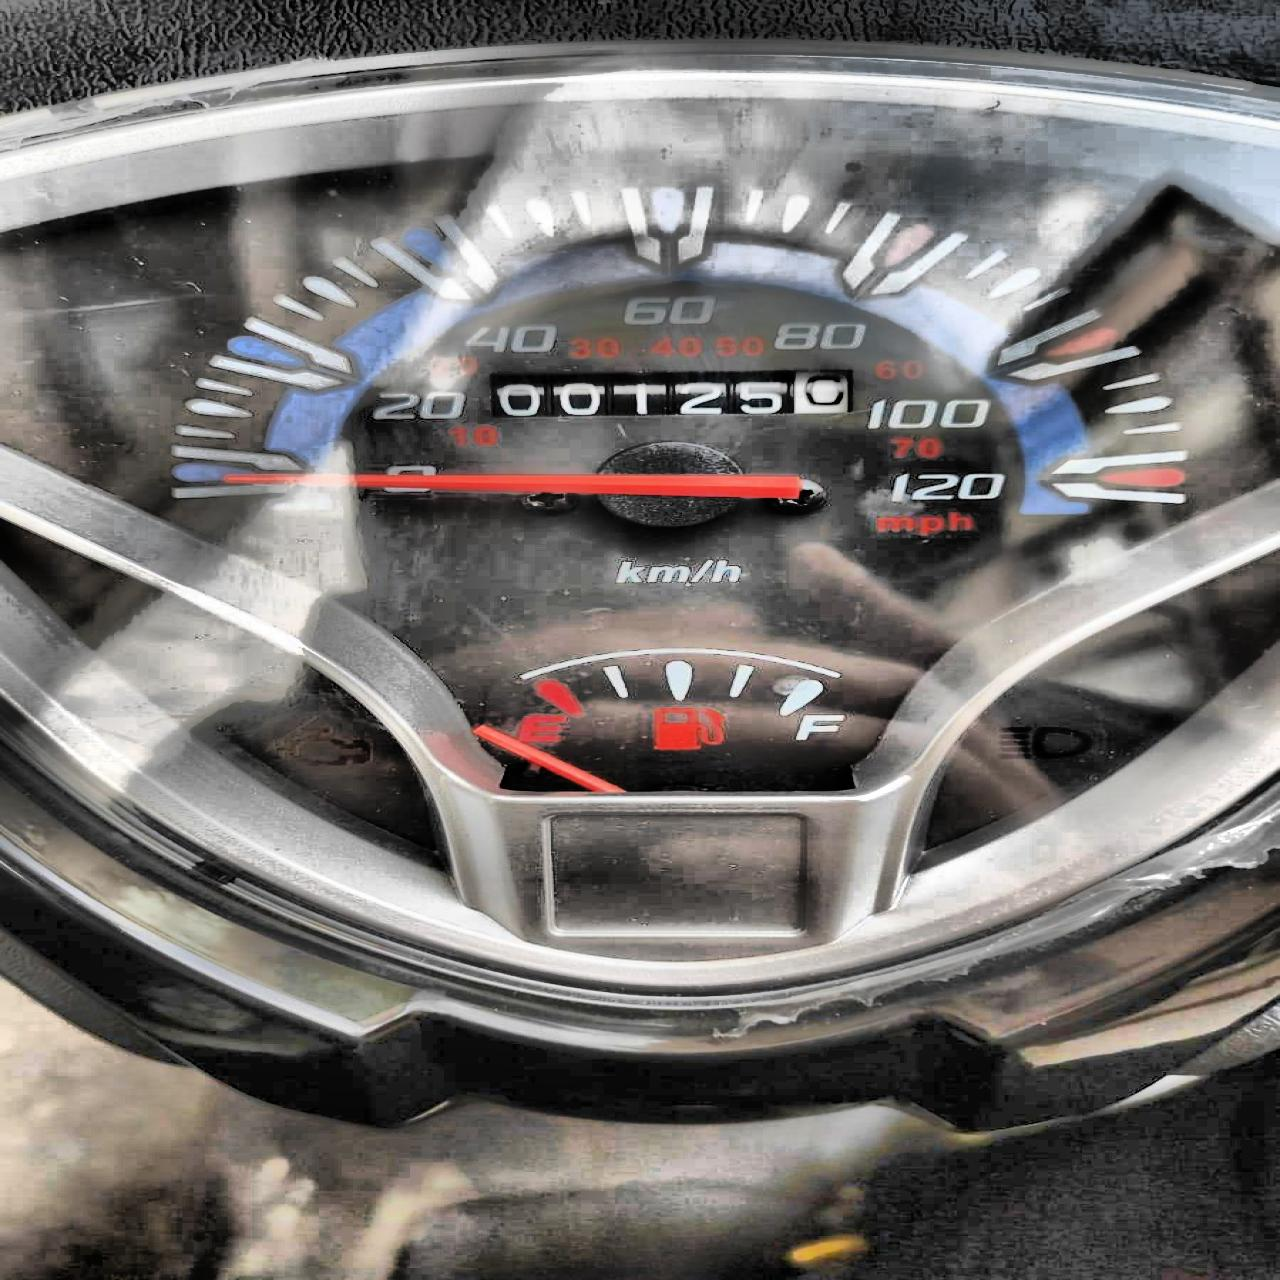0: (799, 374, 847, 410), (497, 382, 544, 418), (554, 380, 601, 415)
1: (625, 380, 658, 416)
2: (675, 381, 726, 415)
5: (731, 379, 782, 414)
odometer: (478, 365, 863, 429)
